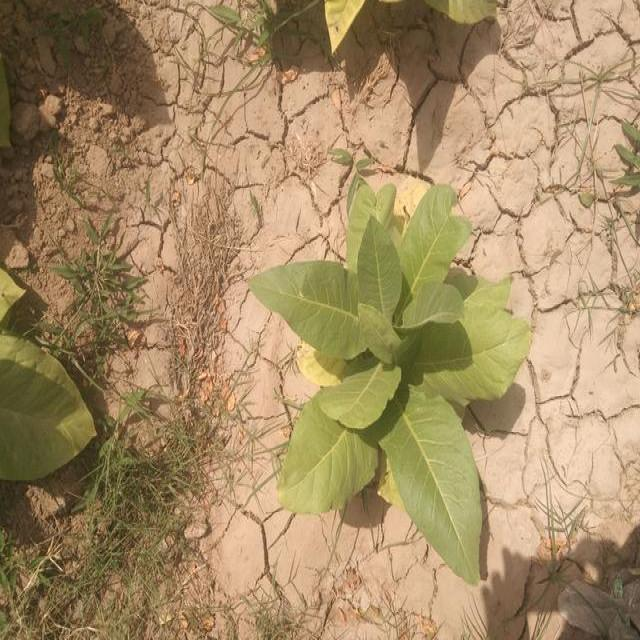crop: (247, 176, 533, 571)
